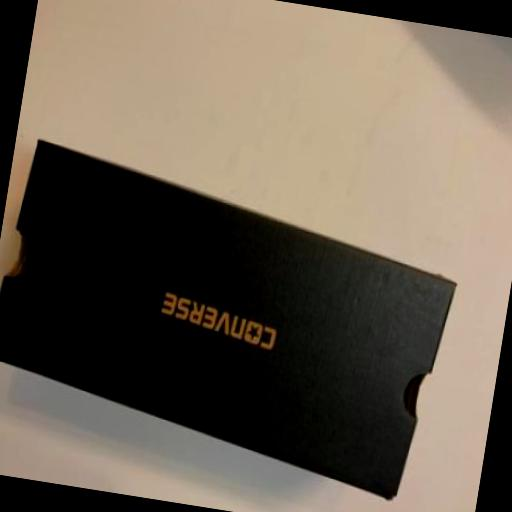cardboard: (0, 137, 471, 508)
